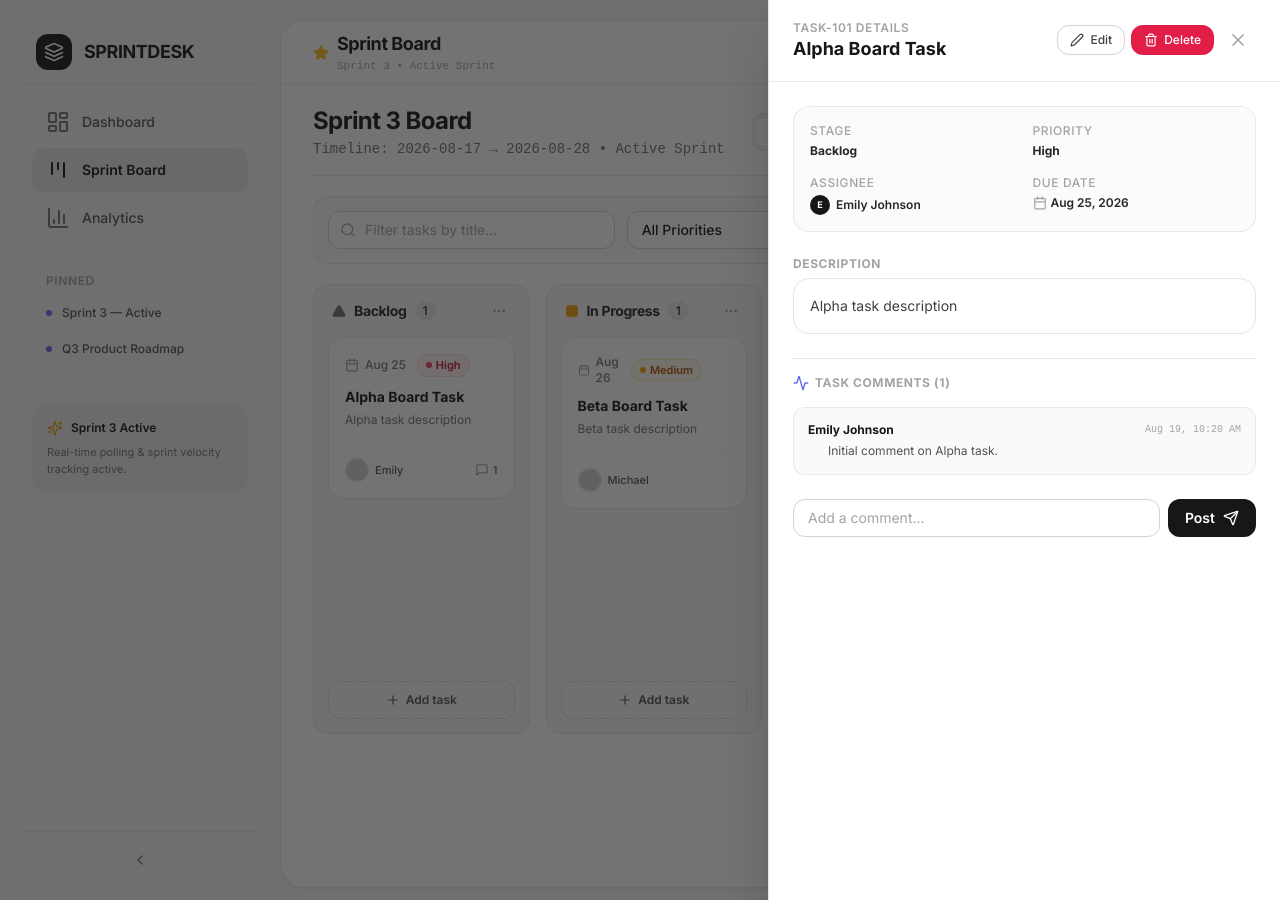
Scenario: Board UI & Task Details Integration Test Suite › allows adding a new comment in task drawer
Type "New test comment posted!" into the field with placeholder "Add a comment..." at (976, 518), box [793,499,1160,537]
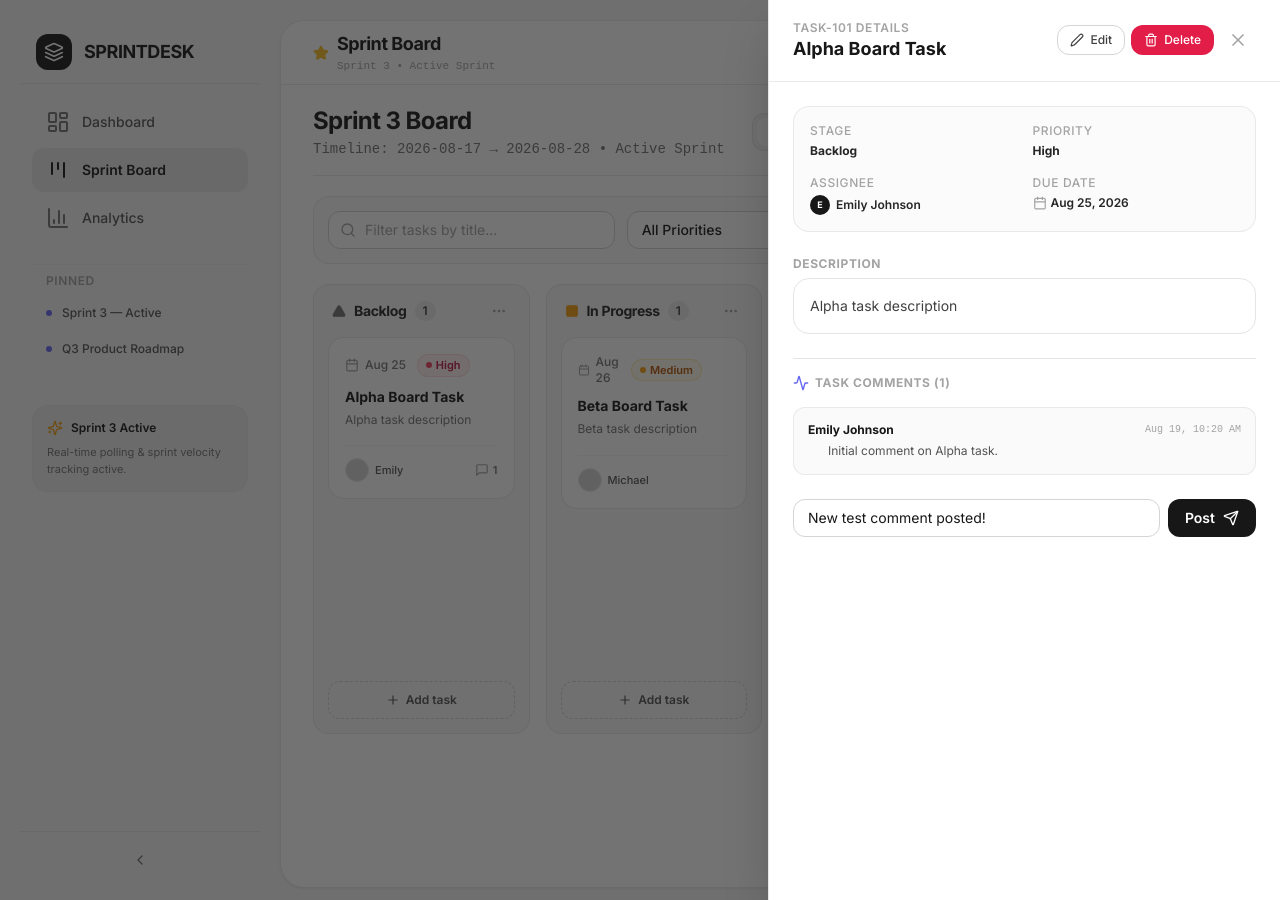
Click the button "Post" at (1212, 518), box [1168,499,1256,537]
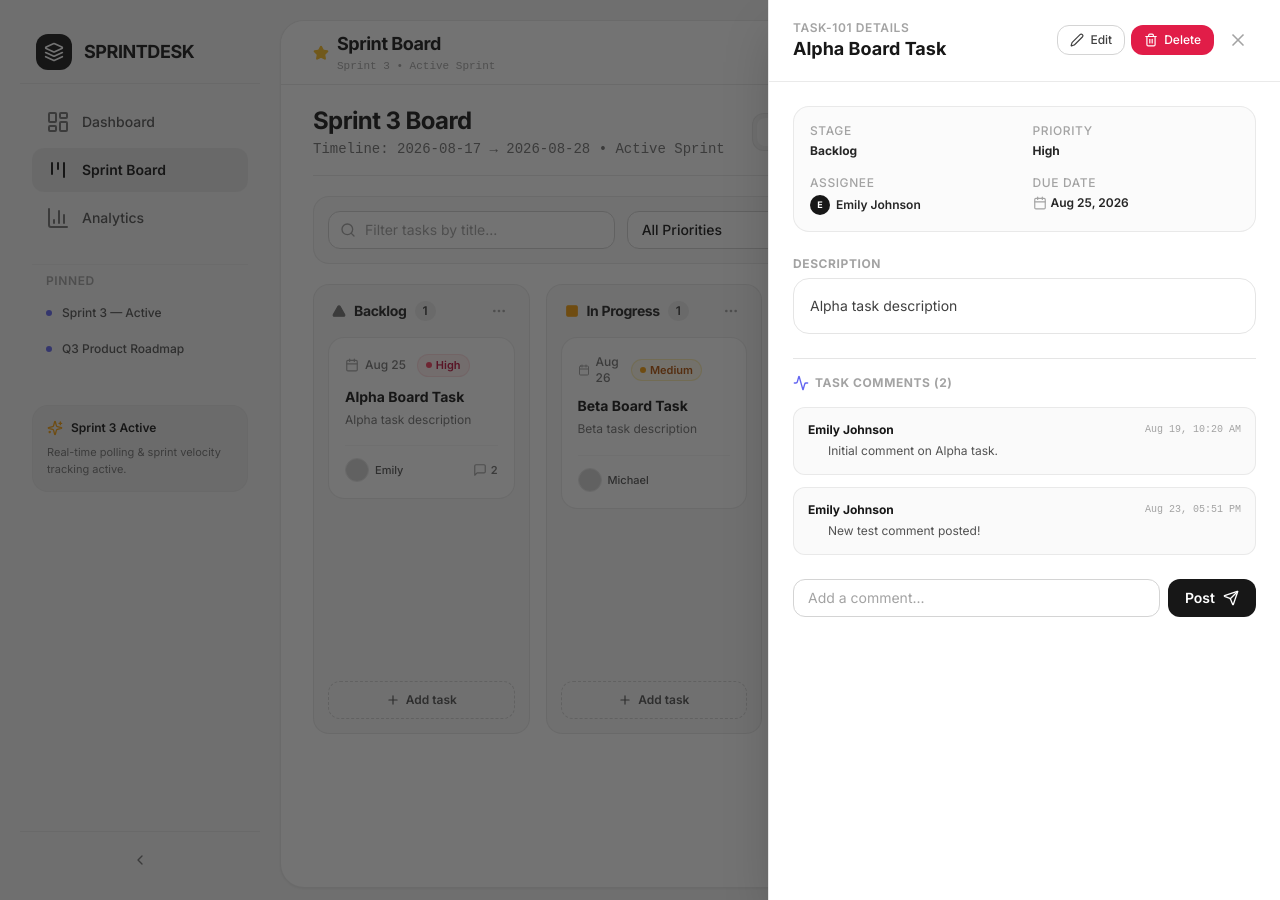
Expected: the text "New test comment posted!" is shown, [828,523,980,538]
